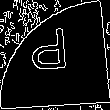P_S: (33, 28, 77, 82)
